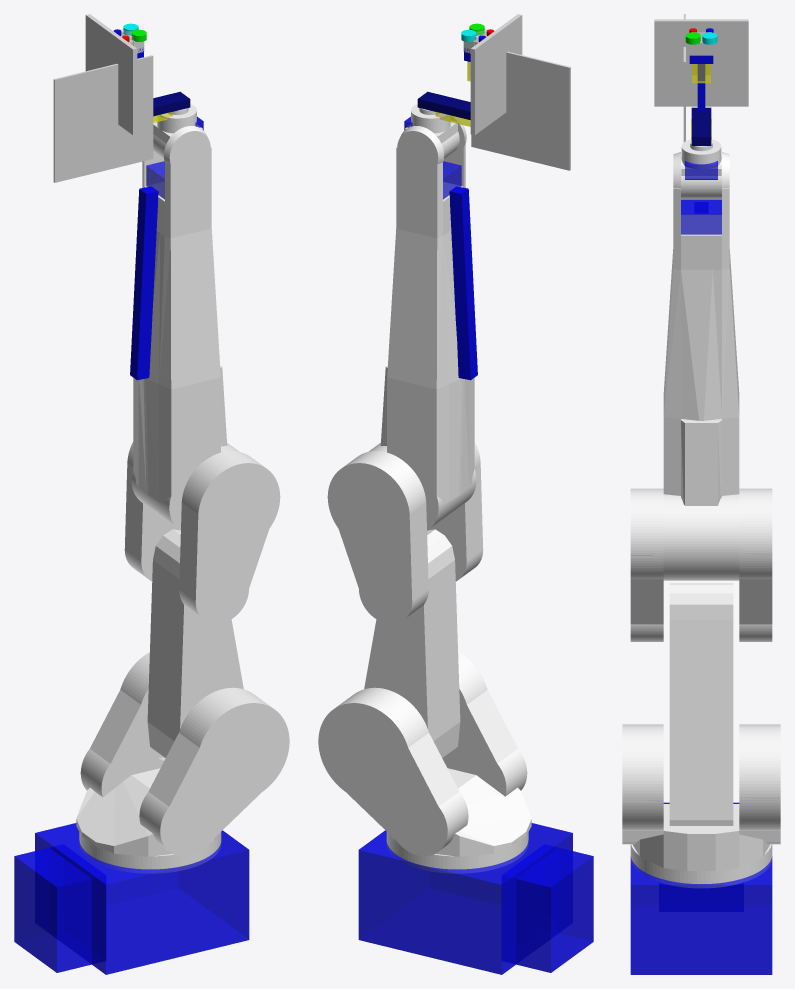
Rendered from mitsubishi-rv-7fll_newgripper.mujin.dae.
3 views of the same model, side by side, from view 1: azimuth 30°, elevation 25°; view 2: azimuth 150°, elevation 25°; view 3: azimuth 270°, elevation 25° (orthographic).
Visible parts, largest first — view 1: L0 (×2), L1, L2, L4 (×2), L3, caliblink_disabled_2, caliblink_disabled_, L5, schmalzsuctionhand; view 2: L0 (×2), L1, L2, L4 (×2), L3, caliblink_disabled_2, caliblink_disabled_, L5, schmalzsuctionhand; view 3: L2, L1, L0 (×2), L4 (×3), L3, caliblink_disabled_, L5 (×2), schmalzsuctionhand (×3).
Boxes of the visible parts, <box> form: L0 (×2): <box>14,823,249,974</box>; L1: <box>76,652,289,873</box>; L2: <box>124,442,280,760</box>; L4 (×2): <box>130,116,220,389</box>; L3: <box>131,365,238,530</box>; caliblink_disabled_2: <box>53,55,153,182</box>; caliblink_disabled_: <box>85,14,137,135</box>; L5: <box>153,104,196,158</box>; schmalzsuctionhand: <box>153,91,190,116</box>; L0 (×2): <box>358,823,593,974</box>; L1: <box>318,652,531,873</box>; L2: <box>327,442,483,757</box>; L4 (×2): <box>387,116,477,389</box>; L3: <box>369,365,476,530</box>; caliblink_disabled_2: <box>471,51,570,170</box>; caliblink_disabled_: <box>470,14,522,135</box>; L5: <box>411,104,459,158</box>; schmalzsuctionhand: <box>417,91,470,120</box>; L2: <box>630,488,772,825</box>; L1: <box>622,724,780,887</box>; L0 (×2): <box>630,802,772,974</box>; L4 (×3): <box>663,152,739,420</box>; L3: <box>663,417,739,580</box>; caliblink_disabled_: <box>654,19,748,106</box>; L5 (×2): <box>681,139,721,199</box>; schmalzsuctionhand (×3): <box>691,64,711,145</box>.
Size of the model in its own units: 0.5225 by 0.336 by 2.11.
